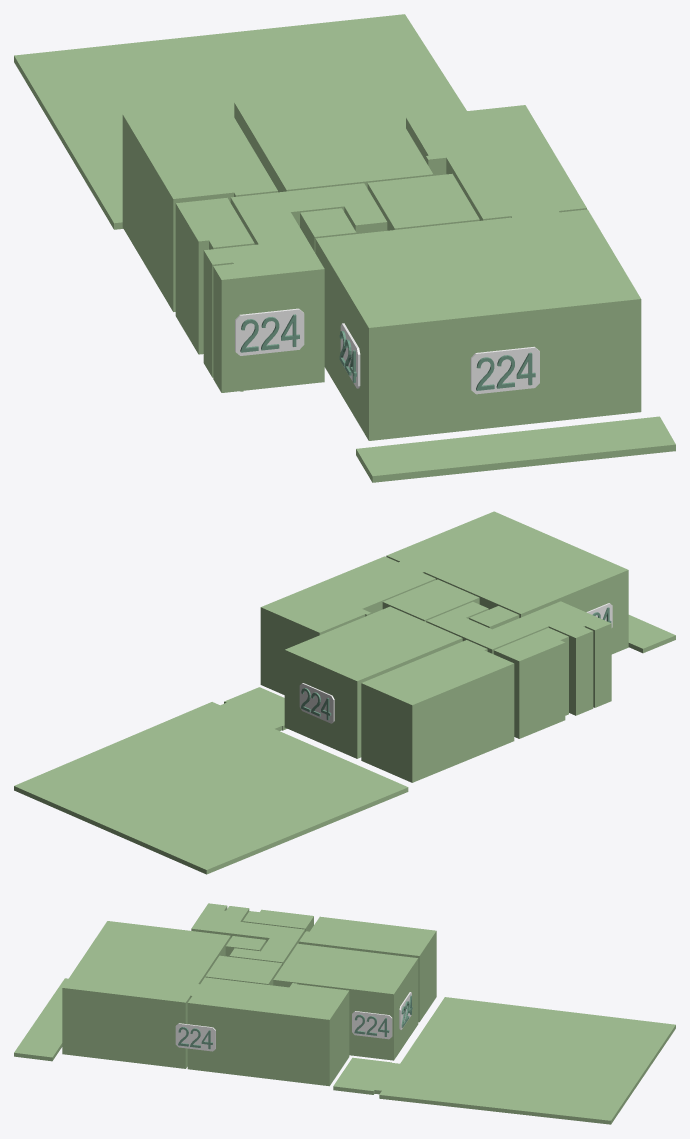
3 renders of one model, top to bottom at view 1: azimuth 30°, elevation 25°; view 2: azimuth 150°, elevation 25°; view 3: azimuth 270°, elevation 25°, orthographic. The views are drawn at different scales.
Visible parts, largest first — view 1: g_7, g_9, g_5, g_0, g_1, g_2, g_8, g_6, g_3, g_13, g_29, g_4; view 2: g_9, g_0, g_7, g_1, g_2, g_5, g_6, g_3, g_8, g_21, g_4; view 3: g_9, g_7, g_2, g_1, g_0, g_5, g_8, g_3, g_6, g_33, g_25, g_4.
Boxes of the visible parts, x1=… form: g_7: x1=315, y1=209, x2=641, y2=440; g_9: x1=14, y1=14, x2=466, y2=229; g_5: x1=203, y1=183, x2=387, y2=392; g_0: x1=122, y1=103, x2=277, y2=311; g_1: x1=234, y1=86, x2=433, y2=192; g_2: x1=406, y1=105, x2=586, y2=220; g_8: x1=356, y1=416, x2=675, y2=482; g_6: x1=175, y1=197, x2=254, y2=354; g_3: x1=367, y1=173, x2=479, y2=230; g_13: x1=470, y1=346, x2=539, y2=394; g_29: x1=235, y1=308, x2=304, y2=355; g_4: x1=300, y1=208, x2=356, y2=252; g_9: x1=14, y1=687, x2=408, y2=874; g_0: x1=361, y1=640, x2=514, y2=782; g_7: x1=386, y1=511, x2=628, y2=654; g_1: x1=284, y1=606, x2=462, y2=758; g_2: x1=260, y1=556, x2=435, y2=694; g_5: x1=426, y1=601, x2=611, y2=715; g_6: x1=493, y1=627, x2=568, y2=738; g_3: x1=382, y1=579, x2=479, y2=621; g_8: x1=628, y1=615, x2=675, y2=653; g_21: x1=299, y1=683, x2=334, y2=723; g_4: x1=469, y1=606, x2=519, y2=629; g_9: x1=333, y1=997, x2=675, y2=1124; g_7: x1=62, y1=921, x2=230, y2=1068; g_2: x1=187, y1=977, x2=349, y2=1086; g_1: x1=273, y1=943, x2=418, y2=1060; g_0: x1=299, y1=916, x2=436, y2=1022; g_5: x1=191, y1=903, x2=304, y2=965; g_8: x1=14, y1=978, x2=68, y2=1061; g_3: x1=205, y1=955, x2=282, y2=985; g_6: x1=242, y1=909, x2=313, y2=931; g_33: x1=175, y1=1023, x2=215, y2=1051; g_25: x1=352, y1=1011, x2=392, y2=1039; g_4: x1=225, y1=936, x2=266, y2=956.
Bounding box in the file's own units: 12.55 × 2.74 × 23.28.
